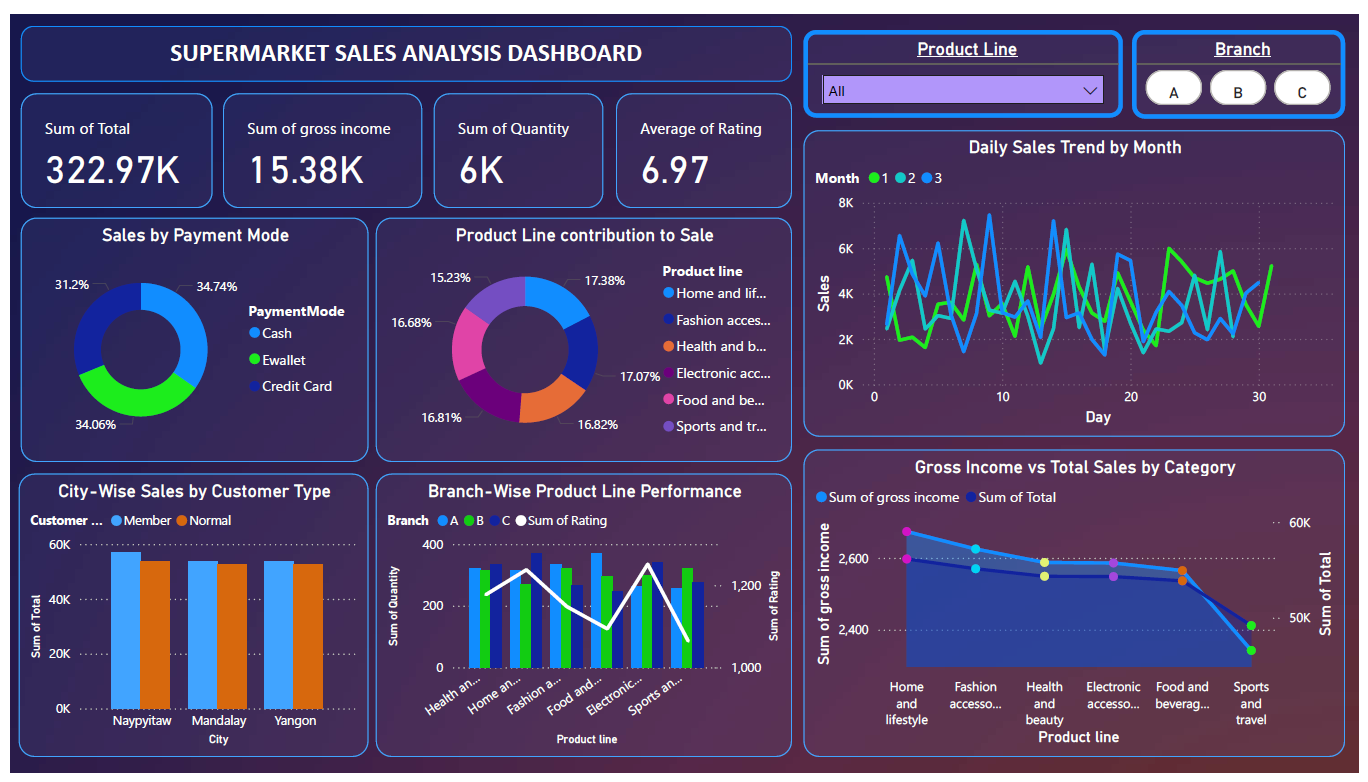

This screenshot's page, from the dashboard's own definition file:
{"tool":"powerbi","page":{"name":"Page 1","canvas":[1280,720],"ordinal":0},"visuals":[{"type":"textbox","box":[9.6,11,732.8,53.5],"z":0},{"type":"cardVisual","fields":{"Data":["Sum(supermarket_sales_with_predictionss.Total)"]},"box":[9.6,75.5,182.5,108.4],"z":1000},{"type":"cardVisual","fields":{"Data":["Sum(supermarket_sales_with_predictionss.Quantity)"]},"box":[402.1,75.5,160.5,108.4],"z":2000},{"type":"cardVisual","fields":{"Data":["Avg(supermarket_sales_with_predictionss.Rating)"]},"box":[575,75.5,167.4,108.4],"z":3000},{"type":"cardVisual","fields":{"Data":["Sum(supermarket_sales_with_predictionss.gross income)"]},"box":[201.7,75.5,189.4,108.4],"z":4000},{"type":"lineChart","title":"Daily Sales Trend by Month","fields":{"Category":["supermarket_sales_with_predictionss.Day"],"Y":["Sum(supermarket_sales_with_predictionss.Total)"],"Series":["supermarket_sales_with_predictionss.Month"]},"box":[753.3,109.8,513.2,290.9],"z":5000},{"type":"donutChart","title":"Sales by Payment Mode","fields":{"Y":["Sum(supermarket_sales_with_predictionss.Total)"],"Category":["supermarket_sales_with_predictionss.PaymentMode"]},"box":[9.6,193.5,330.7,231.9],"z":6000},{"type":"donutChart","title":"Product Line contribution to Sale","fields":{"Category":["supermarket_sales_with_predictionss.Product line"],"Y":["Sum(supermarket_sales_with_predictionss.Total)"]},"box":[347.2,193.5,395.2,231.9],"z":7000},{"type":"clusteredColumnChart","title":"City-Wise Sales by Customer Type","fields":{"Y":["Sum(supermarket_sales_with_predictionss.Total)"],"Series":["supermarket_sales_with_predictionss.Customer type"],"Category":["supermarket_sales_with_predictionss.City"]},"box":[8.2,436.4,332.1,269],"z":8000},{"type":"areaChart","title":"Gross Income vs Total Sales by Category","fields":{"Category":["supermarket_sales_with_predictionss.Product line"],"Y":["Sum(supermarket_sales_with_predictionss.gross income)"],"Y2":["Sum(supermarket_sales_with_predictionss.Total)"]},"box":[753.3,413,513.2,292.3],"z":9000},{"type":"lineClusteredColumnComboChart","title":"Branch-Wise Product Line Performance ","fields":{"Category":["supermarket_sales_with_predictionss.Product line"],"Y":["Sum(supermarket_sales_with_predictionss.Quantity)"],"Y2":["Sum(supermarket_sales_with_predictionss.Rating)"],"Series":["supermarket_sales_with_predictionss.Branch"]},"box":[347,436,395,269],"z":10000},{"type":"advancedSlicerVisual","fields":{"Values":["supermarket_sales_with_predictionss.Branch"]},"box":[1064.8,15.1,201.7,83.7],"z":11000},{"type":"slicer","title":"Product Line","fields":{"Values":["supermarket_sales_with_predictionss.Product line"]},"box":[753.4,14.7,303.1,83.4],"z":12000}]}

Visuals, with their boxes in screenshot pixels (x1, y1, x2, y2), scaled from the page's 1280x720 canvas onto the 1368x782 screenshot:
textbox: x1=10 y1=12 x2=793 y2=70
cardVisual - Sum(supermarket_sales_with_predictionss.Total): x1=10 y1=82 x2=205 y2=200
cardVisual - Sum(supermarket_sales_with_predictionss.Quantity): x1=430 y1=82 x2=601 y2=200
cardVisual - Avg(supermarket_sales_with_predictionss.Rating): x1=615 y1=82 x2=793 y2=200
cardVisual - Sum(supermarket_sales_with_predictionss.gross income): x1=216 y1=82 x2=418 y2=200
"Daily Sales Trend by Month" lineChart: x1=805 y1=119 x2=1354 y2=435
"Sales by Payment Mode" donutChart: x1=10 y1=210 x2=364 y2=462
"Product Line contribution to Sale" donutChart: x1=371 y1=210 x2=793 y2=462
"City-Wise Sales by Customer Type" clusteredColumnChart: x1=9 y1=474 x2=364 y2=766
"Gross Income vs Total Sales by Category" areaChart: x1=805 y1=449 x2=1354 y2=766
"Branch-Wise Product Line Performance " lineClusteredColumnComboChart: x1=371 y1=474 x2=793 y2=766
advancedSlicerVisual - supermarket_sales_with_predictionss.Branch: x1=1138 y1=16 x2=1354 y2=107
"Product Line" slicer: x1=805 y1=16 x2=1129 y2=107
